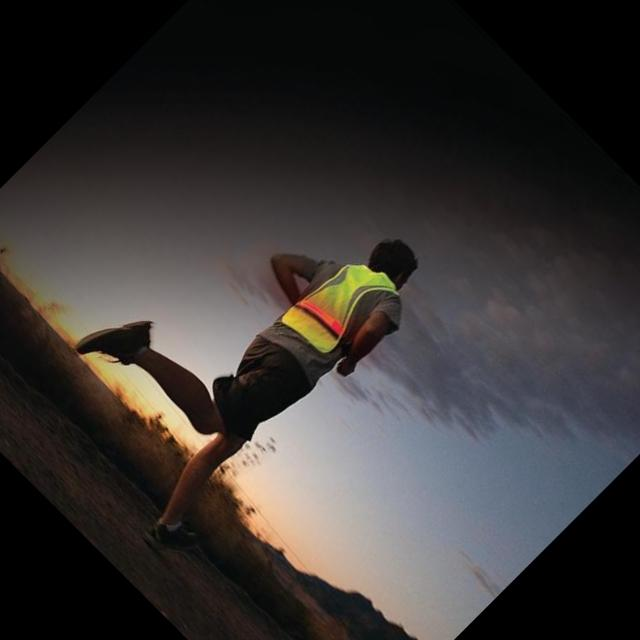safety_vest: (264, 243, 406, 385)
work_boots: (56, 284, 176, 403), (132, 498, 216, 582)
